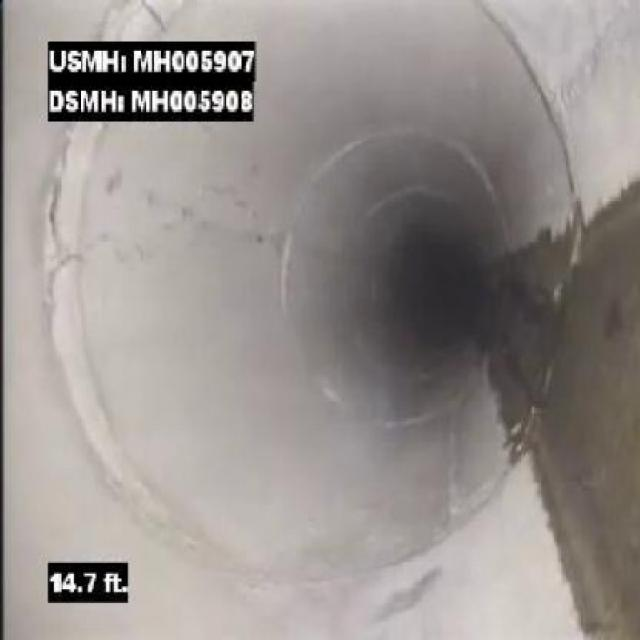Crack: (78, 228, 171, 270)
Joint offset: (62, 372, 186, 543), (38, 136, 98, 370)
